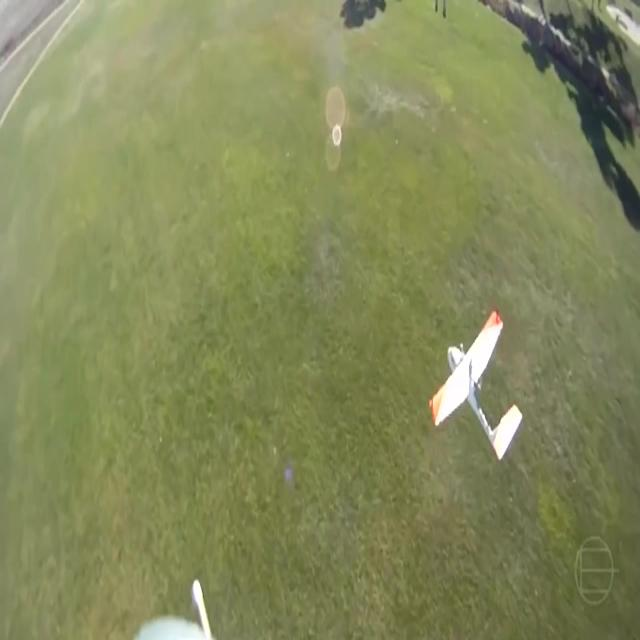iha: (458, 307, 493, 462)
